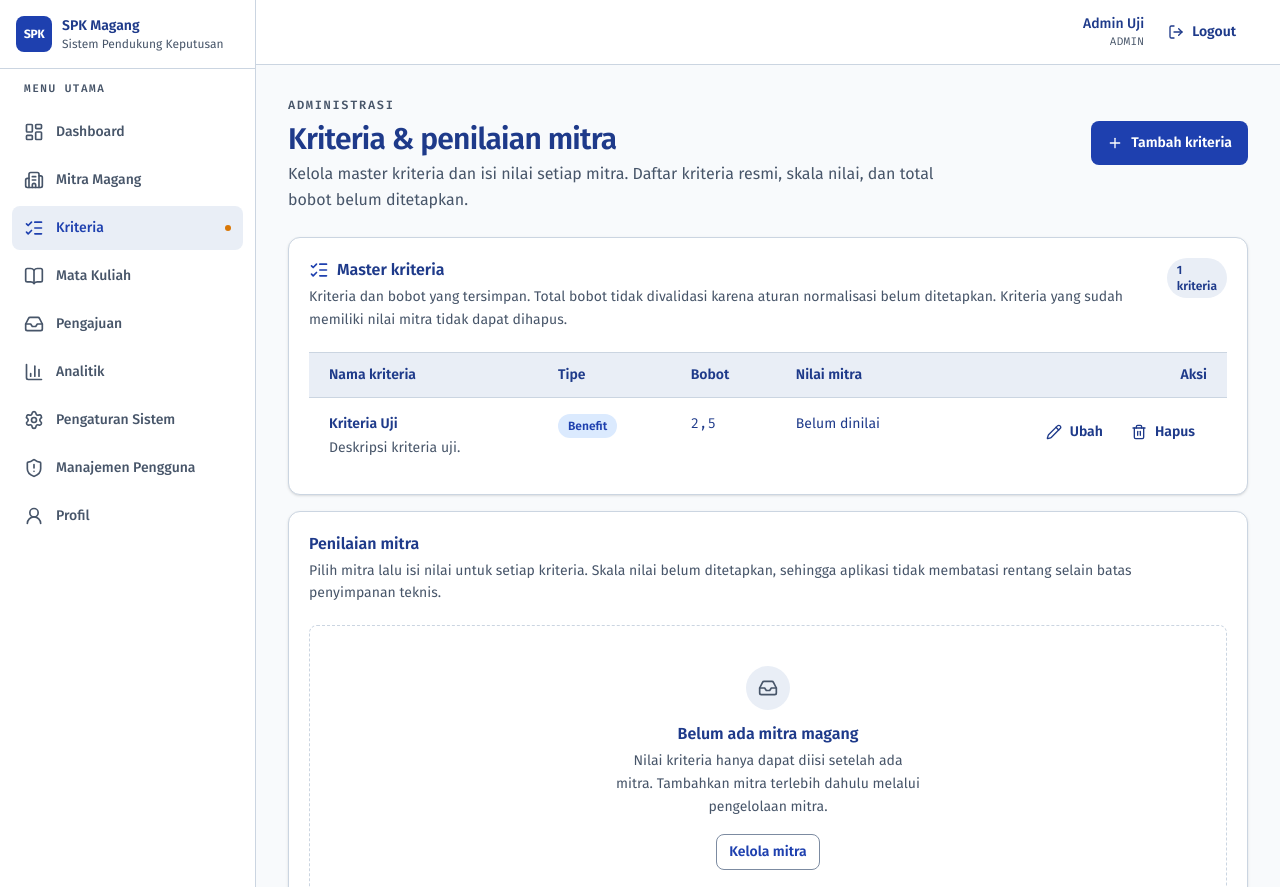
Test case: CriteriaPage › meminta konfirmasi sebelum menghapus kriteria
The width and height of the screenshot is (1280, 887).
Click the button with aria-label "Hapus Kriteria Uji" at (1163, 432), box left=1119, top=414, right=1207, bottom=450
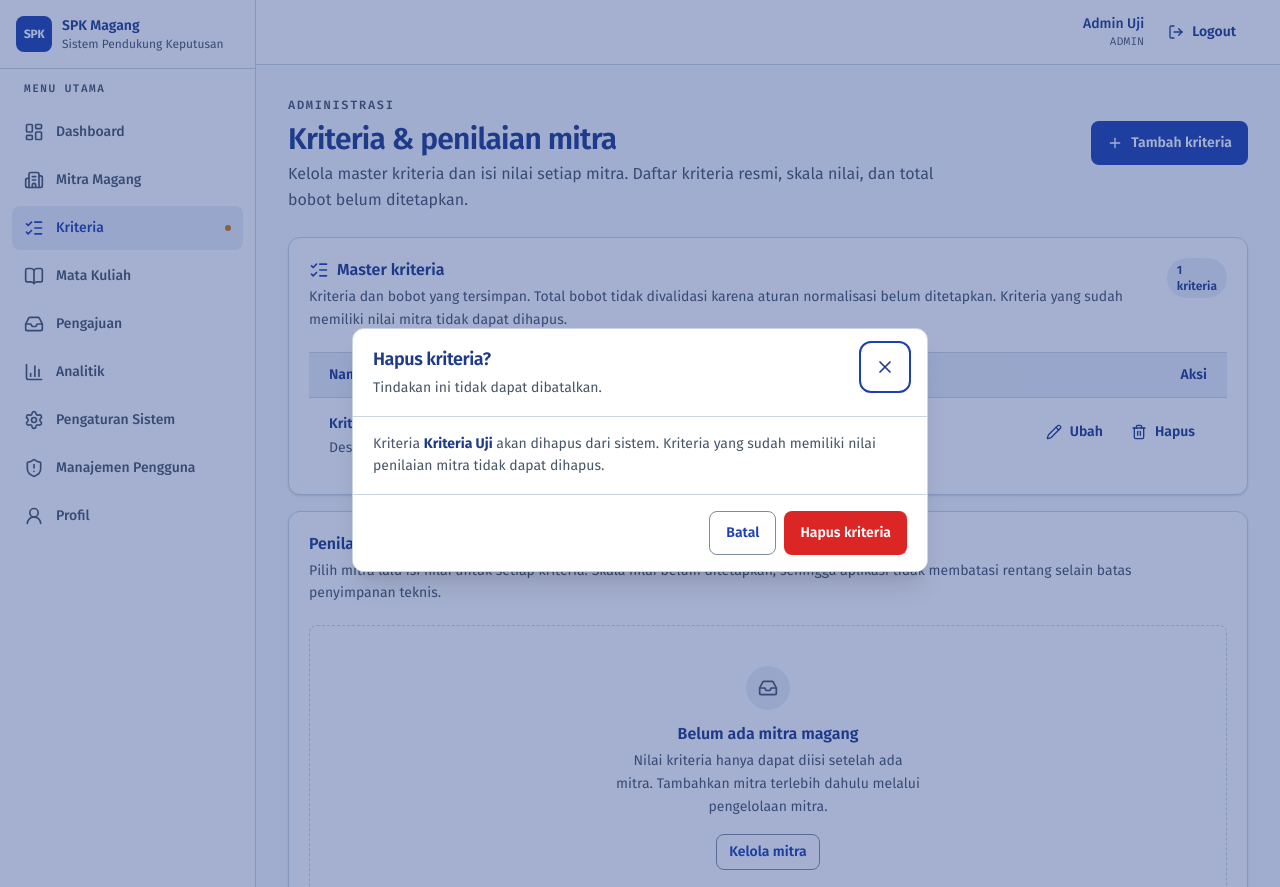
Click the button "Hapus kriteria" at (846, 533), box left=784, top=511, right=907, bottom=555
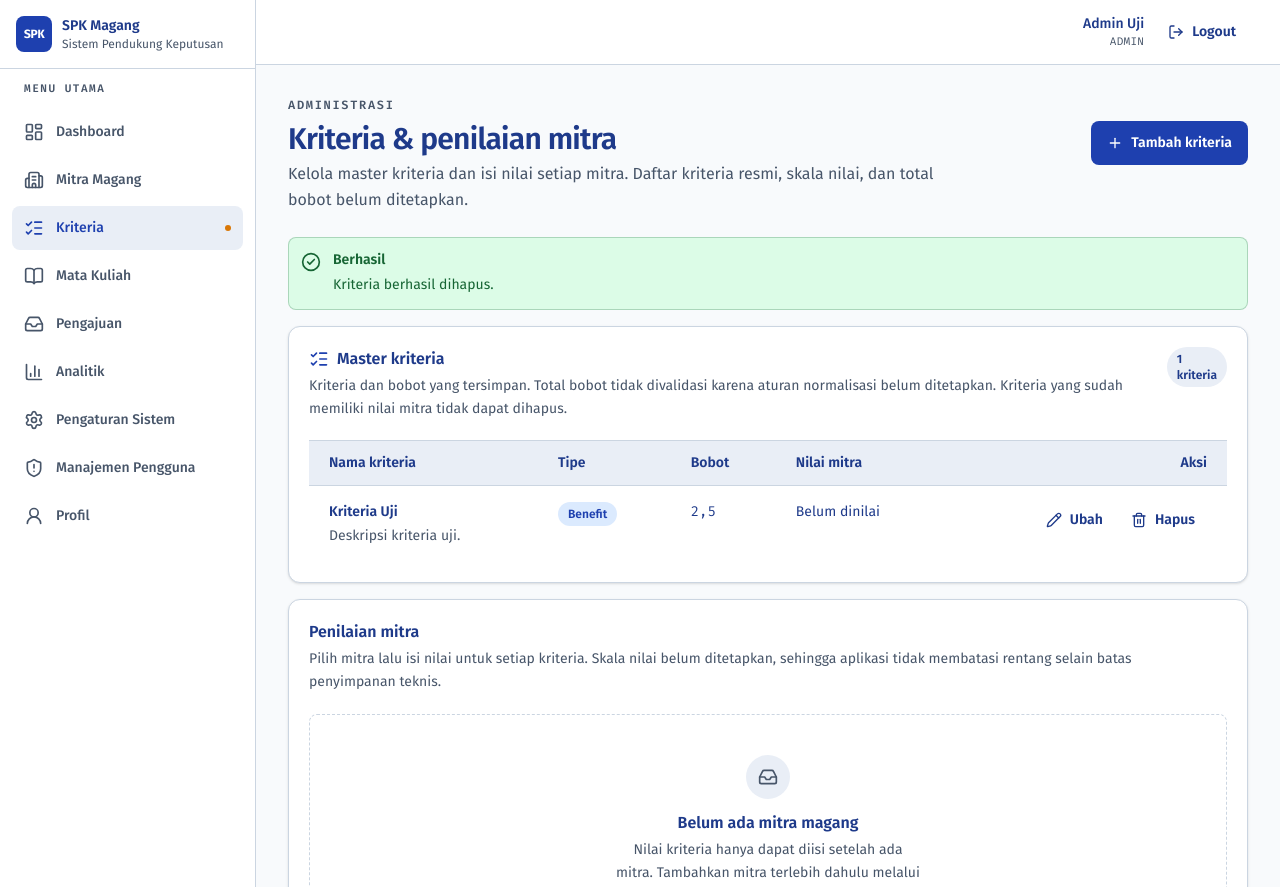
Result: the text "Kriteria berhasil dihapus." is shown at left=333, top=274, right=494, bottom=297
